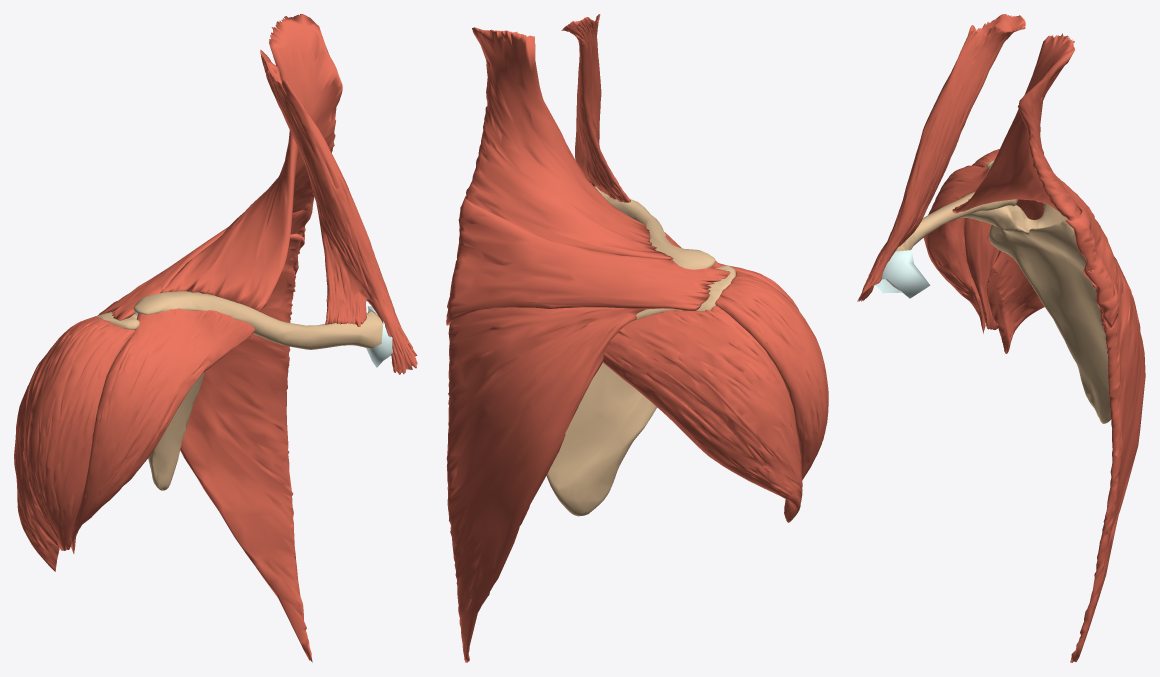
Rendered from shoulder_neck.glb.
3 renders of one model, left to right at view 1: azimuth 30°, elevation 25°; view 2: azimuth 150°, elevation 25°; view 3: azimuth 270°, elevation 25°, orthographic. The views are drawn at different scales.
Visible parts, largest first — view 1: muscle_trapezius_upper, muscle_deltoid_anterior, muscle_deltoid_lateral, muscle_sternocleidomastoid, bone_clavicle, muscle_deltoid_posterior, bone_scapula, joint_sternoclavicular; view 2: muscle_trapezius_upper, muscle_deltoid_posterior, bone_scapula, muscle_deltoid_lateral, muscle_sternocleidomastoid, bone_clavicle; view 3: muscle_trapezius_upper, bone_scapula, muscle_sternocleidomastoid, muscle_deltoid_anterior, muscle_deltoid_posterior, muscle_deltoid_lateral, joint_sternoclavicular, bone_clavicle.
Boxes of the visible parts, <box> form: muscle_trapezius_upper: <box>98,14,342,662</box>; muscle_deltoid_anterior: <box>71,308,255,554</box>; muscle_deltoid_lateral: <box>23,316,135,550</box>; muscle_sternocleidomastoid: <box>260,49,417,374</box>; bone_clavicle: <box>133,291,382,349</box>; muscle_deltoid_posterior: <box>14,354,59,571</box>; bone_scapula: <box>94,311,204,490</box>; joint_sternoclavicular: <box>366,306,392,367</box>; muscle_trapezius_upper: <box>446,27,730,662</box>; muscle_deltoid_posterior: <box>602,305,802,522</box>; bone_scapula: <box>546,265,736,516</box>; muscle_deltoid_lateral: <box>715,270,828,479</box>; muscle_sternocleidomastoid: <box>561,14,630,202</box>; bone_clavicle: <box>594,186,715,269</box>; muscle_trapezius_upper: <box>952,33,1145,662</box>; bone_scapula: <box>960,160,1110,423</box>; muscle_sternocleidomastoid: <box>857,14,1025,301</box>; muscle_deltoid_anterior: <box>924,165,988,333</box>; muscle_deltoid_posterior: <box>987,178,1094,353</box>; muscle_deltoid_lateral: <box>964,149,999,329</box>; joint_sternoclavicular: <box>868,250,930,298</box>; bone_clavicle: <box>885,163,1018,290</box>.
Size of the model in its own units: 0.2396 by 0.4554 by 0.1946.
